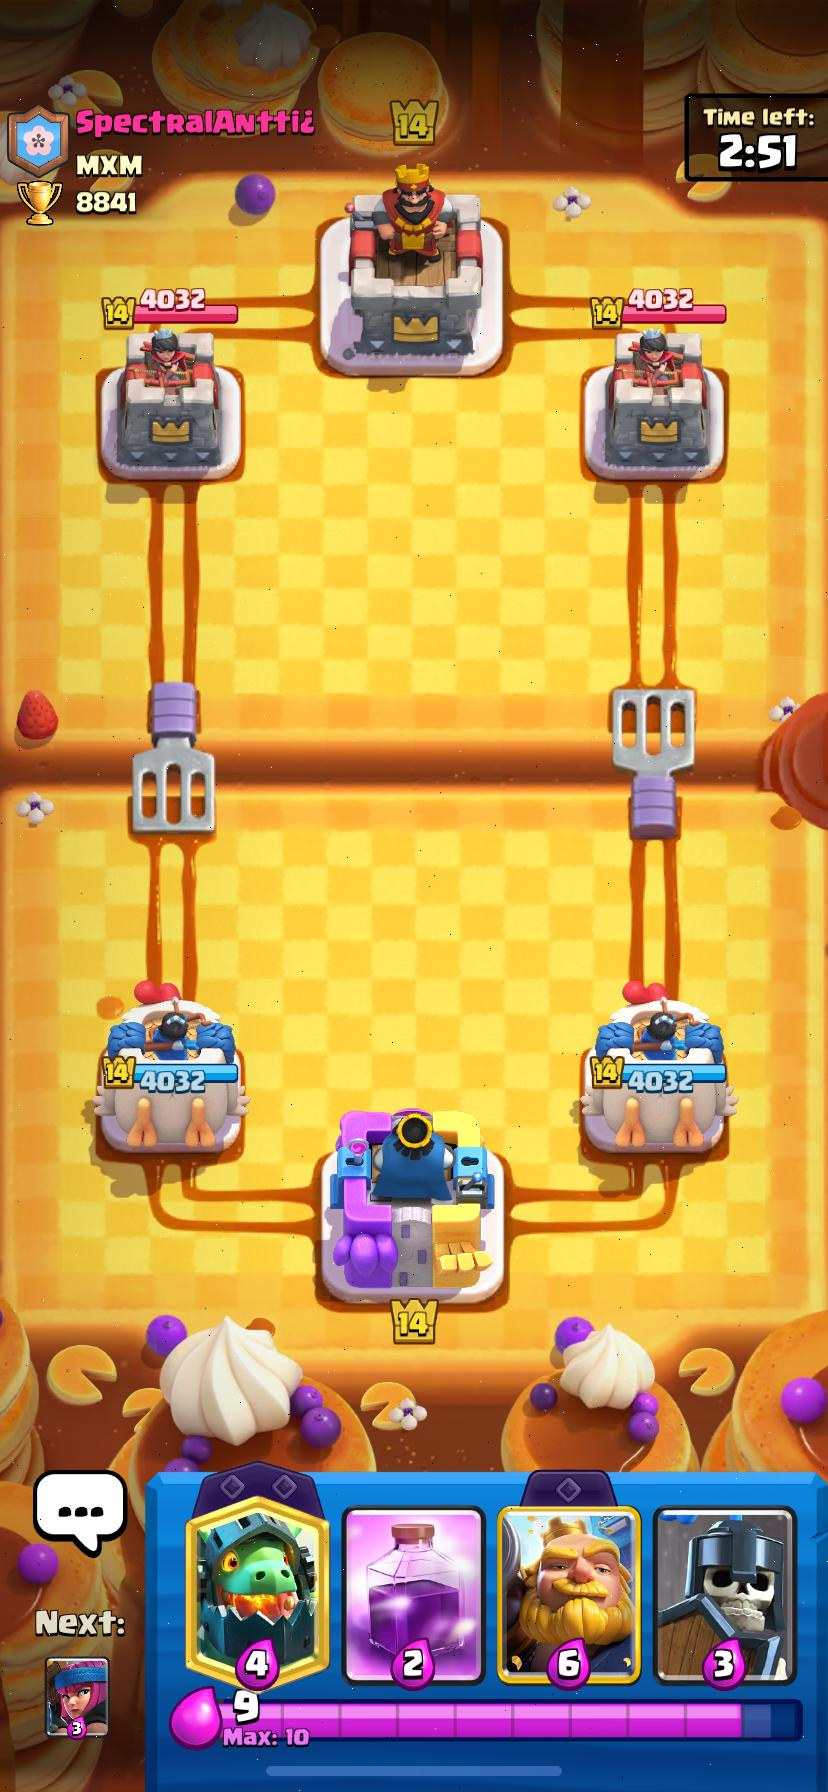EKingTower: (320, 165, 502, 376)
EnemyPrincessTower: (99, 327, 241, 481), (583, 330, 723, 481)
OwnKingTower: (321, 1109, 503, 1303)
OwnPrincessTower: (580, 982, 737, 1154), (93, 983, 248, 1152)
